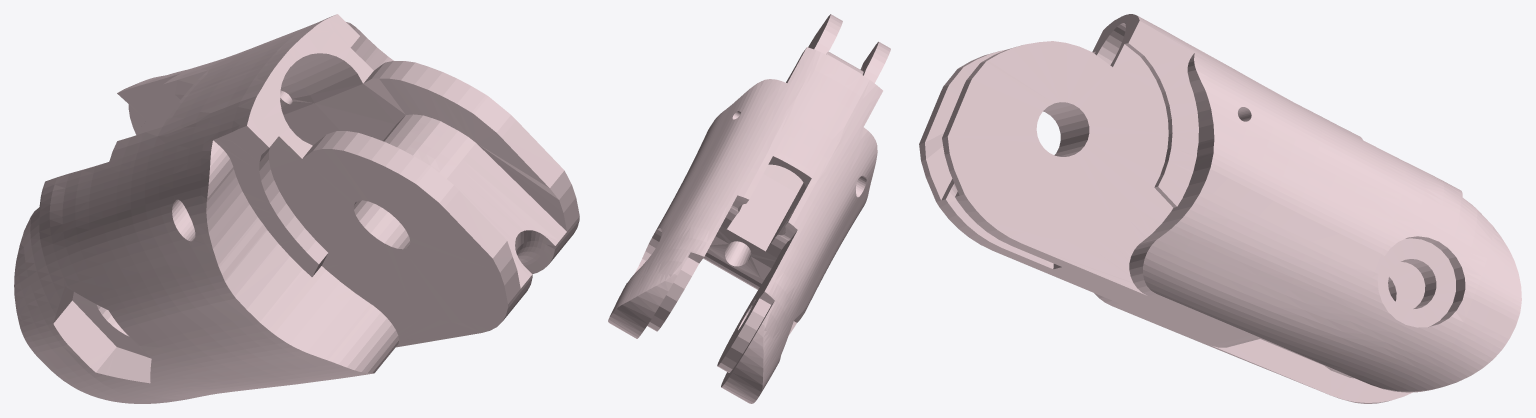
File: i02_rightHand_indexMid_visual.obj.full.glb
3 renders of one model, left to right at view 1: azimuth 30°, elevation 25°; view 2: azimuth 150°, elevation 25°; view 3: azimuth 270°, elevation 25°, orthographic. The views are drawn at different scales.
Size of the model in its own units: 0.1771 by 0.2842 by 0.3928.
